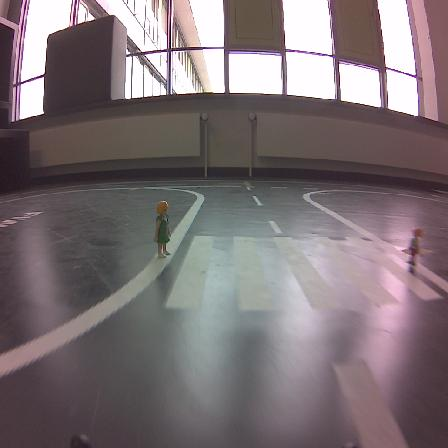CHILD: (403, 228, 422, 270)
PERSON: (154, 201, 170, 257)
